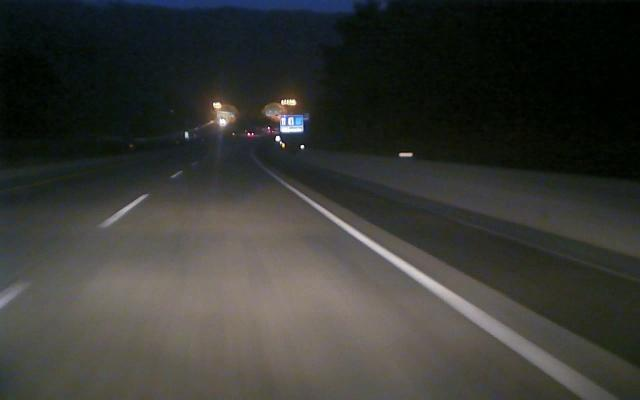lane: (276, 177, 624, 400), (0, 170, 182, 303)
